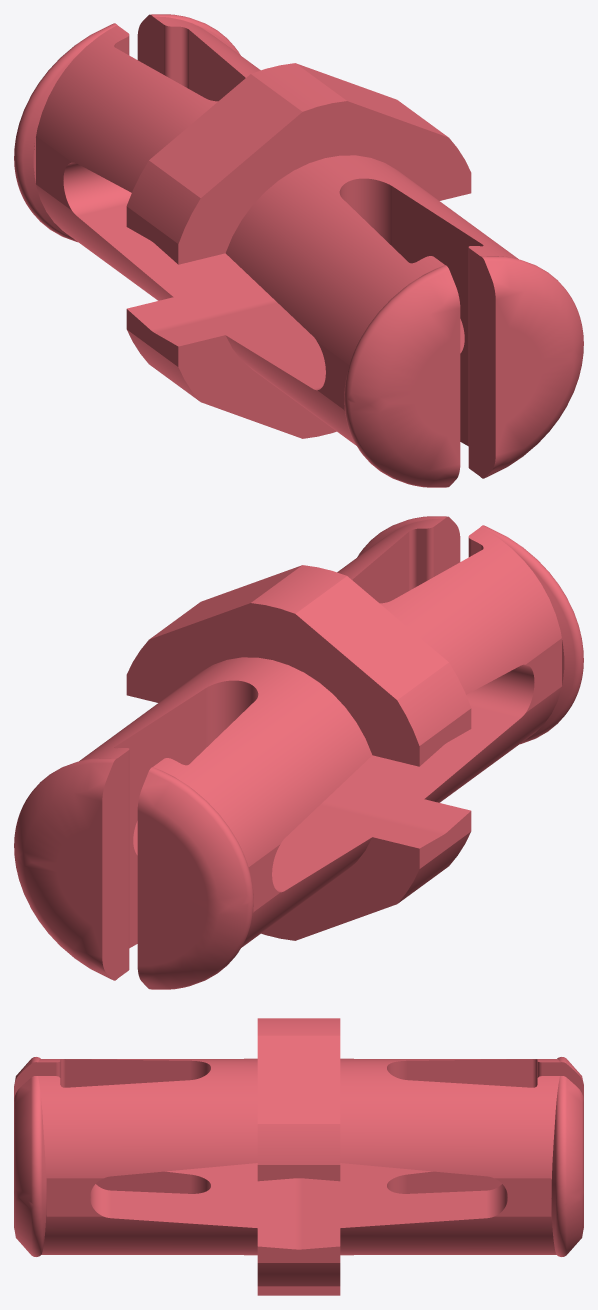
3 views of the same model, one above another, from view 1: azimuth 30°, elevation 25°; view 2: azimuth 150°, elevation 25°; view 3: azimuth 270°, elevation 25° (orthographic). The views are drawn at different scales.
Visible parts, largest first — view 1: main_d22630; view 2: main_d22630; view 3: main_d22630.
Part boxes in pixels (x1,y1,x2,y2): main_d22630: (14,14,583,487); main_d22630: (14,516,583,989); main_d22630: (14,1018,583,1295).
Size of the model in its own units: 5.8 by 6.24 by 12.28.
